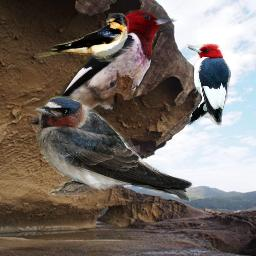Swallow: (31, 95, 194, 203), (35, 13, 129, 62)
Woodpecker: (25, 8, 179, 126), (187, 41, 231, 127)
